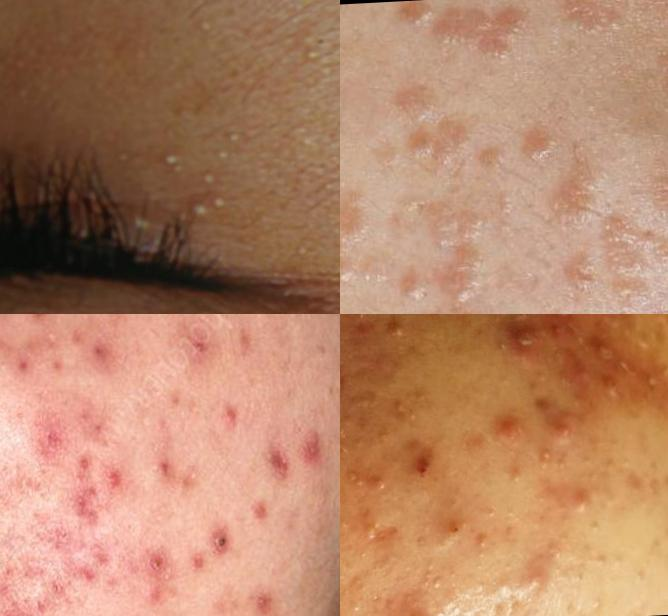flat_wart: (390, 190, 495, 314), (574, 194, 668, 311), (392, 1, 537, 71), (384, 79, 477, 181), (341, 180, 391, 299), (539, 155, 606, 237), (539, 241, 613, 315), (504, 121, 572, 182), (542, 1, 629, 44), (468, 139, 517, 187), (643, 168, 668, 230), (651, 45, 668, 101)
milium: (182, 186, 246, 228), (268, 230, 313, 273), (212, 127, 252, 171), (121, 210, 163, 247), (154, 147, 192, 183), (184, 16, 231, 45), (325, 184, 341, 265), (289, 45, 327, 71), (199, 165, 227, 193)
papular: (7, 420, 134, 590), (175, 320, 225, 375), (509, 548, 556, 602), (263, 441, 300, 492), (140, 544, 175, 592), (477, 399, 508, 449), (298, 424, 329, 467), (210, 524, 240, 562), (501, 342, 543, 362), (1, 603, 44, 616)
purulent: (540, 401, 588, 446), (565, 476, 593, 519)
sebo-crystan-conglo: (542, 315, 573, 327)
whitehead: (33, 315, 68, 364), (368, 315, 419, 347), (359, 458, 394, 503), (465, 526, 502, 561), (621, 552, 652, 589), (532, 445, 562, 482), (415, 573, 449, 599), (585, 538, 609, 571), (635, 331, 656, 366), (180, 462, 201, 486), (75, 477, 83, 485)
